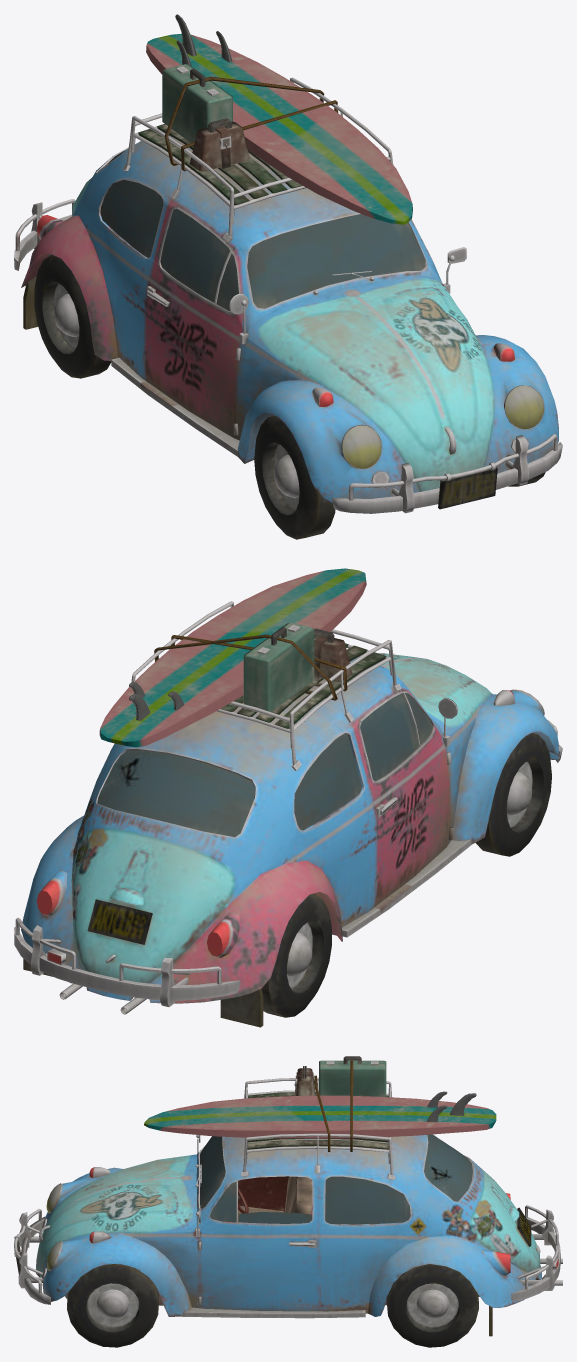
Rendered from volkswagen-beetle.glb.
The picture shows the model from 3 angles, top to bottom: view 1: azimuth 30°, elevation 25°; view 2: azimuth 150°, elevation 25°; view 3: azimuth 270°, elevation 25°; orthographic projection. The views are drawn at different scales.
Visible parts, largest first — view 1: base_lp, glass_lp, surf_lp, wheel_lp3, wheel_lp4, det_16_lp, bag_01_lp, det_07_lp, det_06_lp, bag_02_lp, det_12_lp, det_03_lp (+3 smaller); view 2: base_lp, glass_lp, surf_lp, wheel_lp3, wheel_lp4, det_17_lp, bag_01_lp, det_07_lp, det_13_lp, det_06_lp, det_02_lp, det_12_lp (+3 smaller); view 3: base_lp, surf_lp, glass_lp, wheel_lp1, wheel_lp2, bag_01_lp, det_17_lp, det_07_lp, det_16_lp, det_06_lp, det_12_lp, seat_01_lp (+4 smaller).
Part boxes in pixels (x1=…): base_lp: x1=21, y1=131, x2=558, y2=502; glass_lp: x1=100, y1=150, x2=543, y2=468; surf_lp: x1=146, y1=14, x2=412, y2=224; wheel_lp3: x1=254, y1=415, x2=335, y2=539; wheel_lp4: x1=34, y1=255, x2=111, y2=378; det_16_lp: x1=331, y1=434, x2=562, y2=513; bag_01_lp: x1=162, y1=64, x2=232, y2=142; det_07_lp: x1=122, y1=77, x2=393, y2=242; det_06_lp: x1=138, y1=123, x2=302, y2=205; bag_02_lp: x1=189, y1=118, x2=249, y2=171; det_12_lp: x1=111, y1=357, x2=239, y2=456; det_03_lp: x1=438, y1=467, x2=497, y2=509; base_lp: x1=21, y1=653, x2=558, y2=1003; glass_lp: x1=97, y1=690, x2=538, y2=836; surf_lp: x1=99, y1=568, x2=366, y2=747; wheel_lp3: x1=476, y1=733, x2=551, y2=856; wheel_lp4: x1=261, y1=893, x2=331, y2=1017; det_17_lp: x1=14, y1=918, x2=239, y2=1006; bag_01_lp: x1=243, y1=622, x2=314, y2=711; det_07_lp: x1=131, y1=601, x2=401, y2=770; det_13_lp: x1=37, y1=869, x2=240, y2=957; det_06_lp: x1=220, y1=643, x2=386, y2=728; det_02_lp: x1=87, y1=899, x2=152, y2=944; det_12_lp: x1=342, y1=839, x2=472, y2=937; base_lp: x1=36, y1=1134, x2=541, y2=1316; surf_lp: x1=144, y1=1091, x2=496, y2=1138; glass_lp: x1=46, y1=1134, x2=472, y2=1270; wheel_lp1: x1=67, y1=1264, x2=158, y2=1347; wheel_lp2: x1=386, y1=1264, x2=478, y2=1347; bag_01_lp: x1=319, y1=1056, x2=386, y2=1096; det_17_lp: x1=511, y1=1205, x2=560, y2=1301; det_07_lp: x1=241, y1=1077, x2=395, y2=1179; det_16_lp: x1=14, y1=1209, x2=50, y2=1304; det_06_lp: x1=247, y1=1092, x2=388, y2=1149; det_12_lp: x1=182, y1=1307, x2=365, y2=1318; seat_01_lp: x1=238, y1=1176, x2=312, y2=1221.
Size of the model in its own units: 150 by 185 by 392.
2 materials, 2 textured.
